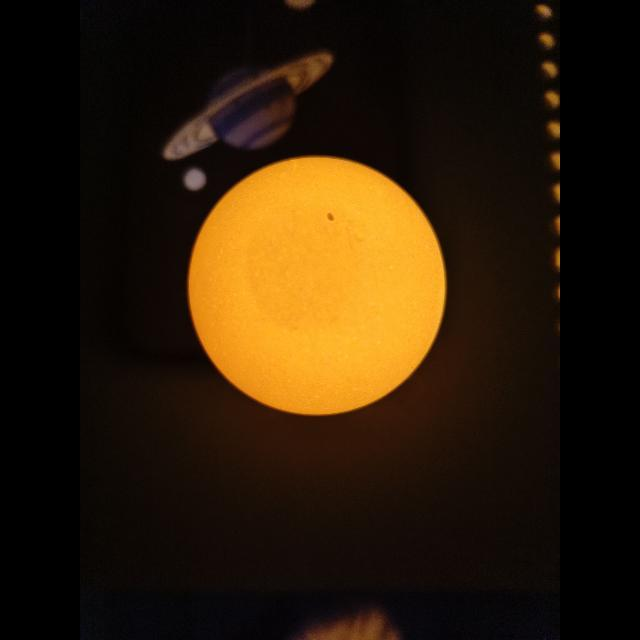AA - Premium: (188, 156, 446, 415)
